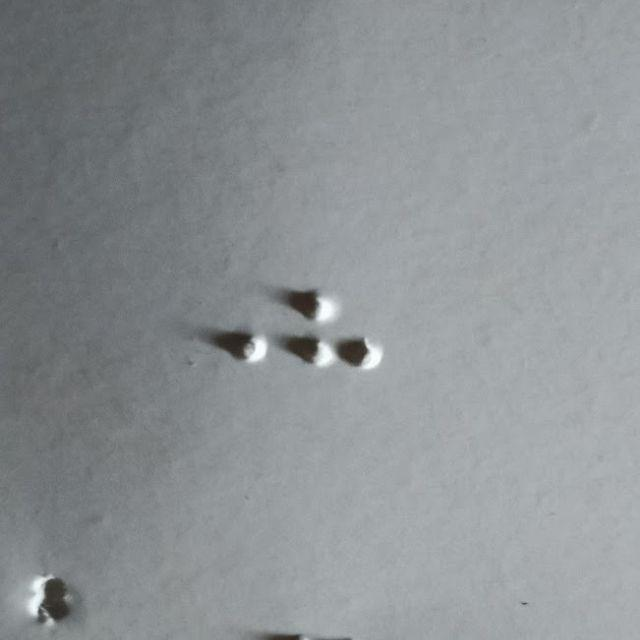dot_5: (178, 289, 270, 408)
hapon: (299, 290, 382, 409)
